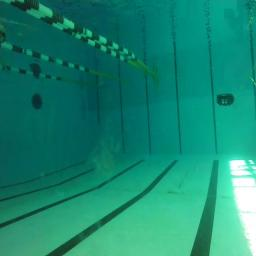Side: (216, 93, 236, 106)
